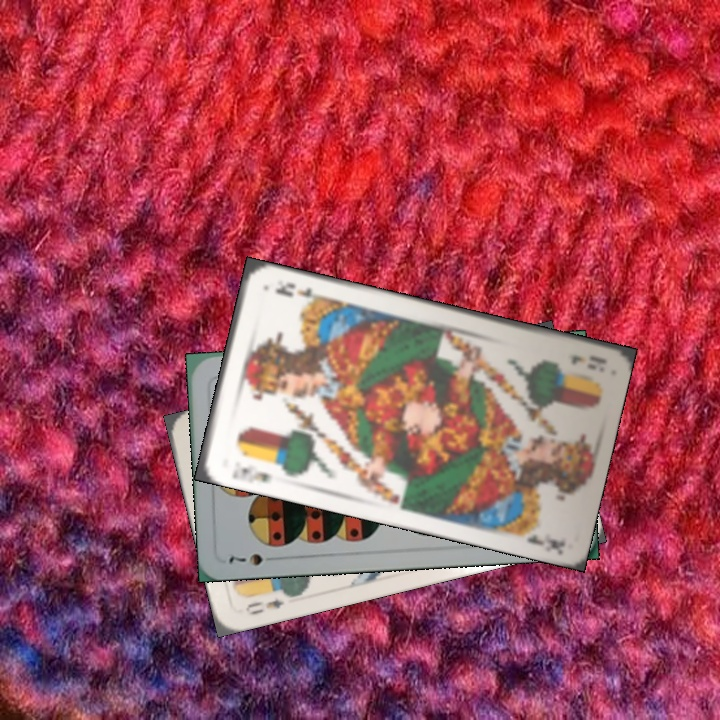EK: (227, 463, 275, 485), (567, 351, 607, 367)
EO: (241, 585, 294, 618)
S7: (225, 549, 266, 568)
